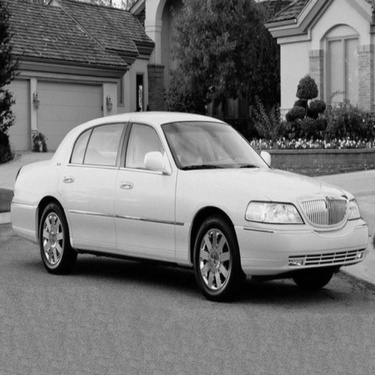car: (1, 81, 370, 296)
